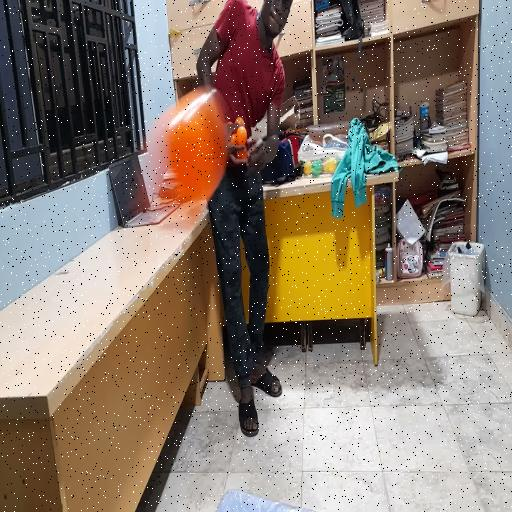plastic-ball: (146, 84, 229, 231)
